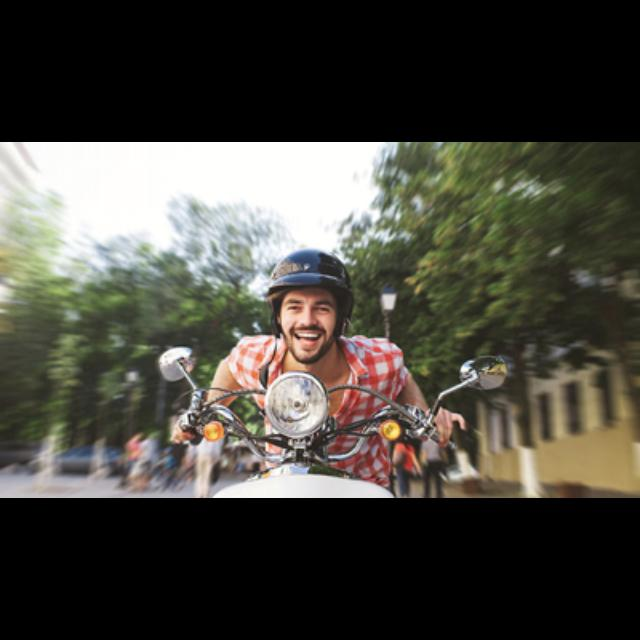With Helmet: (262, 246, 362, 362)
